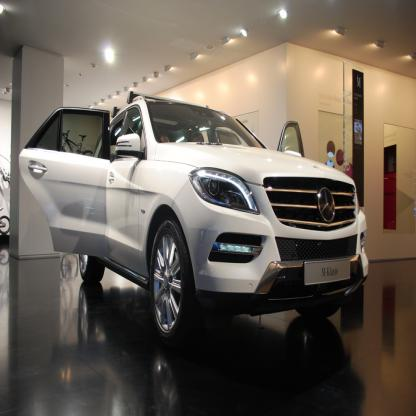Car: (19, 89, 369, 346)
